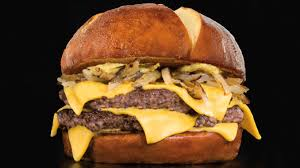hamburger: (51, 2, 263, 162)
